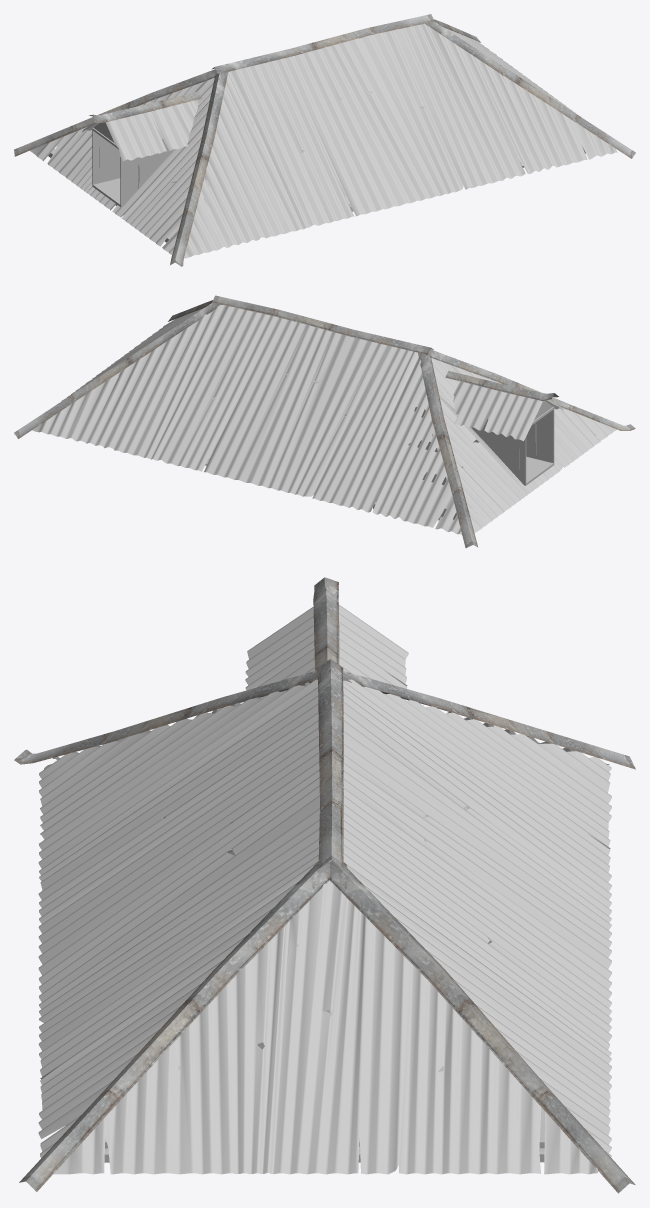
The model's file is Roof_15_2.FBX.
The picture shows the model from 3 angles, top to bottom: view 1: azimuth 30°, elevation 25°; view 2: azimuth 150°, elevation 25°; view 3: azimuth 270°, elevation 25°; orthographic projection. The views are drawn at different scales.
Parts seen in each view (by area): view 1: Roof_15_2, Peak_04, Wood_Roof_15_2, Peak_04_2; view 2: Roof_15_2, Peak_04, Wood_Roof_15_2, Peak_04_2, Attic_05; view 3: Roof_15_2, Peak_04, Peak_04_2.
Part boxes in pixels (left/top/right/bottom): Roof_15_2: left=30, top=23, right=617, bottom=258; Peak_04: left=14, top=14, right=635, bottom=266; Wood_Roof_15_2: left=92, top=116, right=206, bottom=207; Peak_04_2: left=89, top=91, right=201, bottom=123; Roof_15_2: left=32, top=304, right=616, bottom=534; Peak_04: left=14, top=295, right=635, bottom=547; Wood_Roof_15_2: left=461, top=400, right=554, bottom=485; Peak_04_2: left=445, top=371, right=558, bottom=400; Attic_05: left=114, top=310, right=594, bottom=520; Roof_15_2: left=38, top=605, right=611, bottom=1174; Peak_04: left=14, top=659, right=635, bottom=1193; Peak_04_2: left=313, top=577, right=339, bottom=670.
Bounding box in the file's own units: 1290 × 783 × 307.
